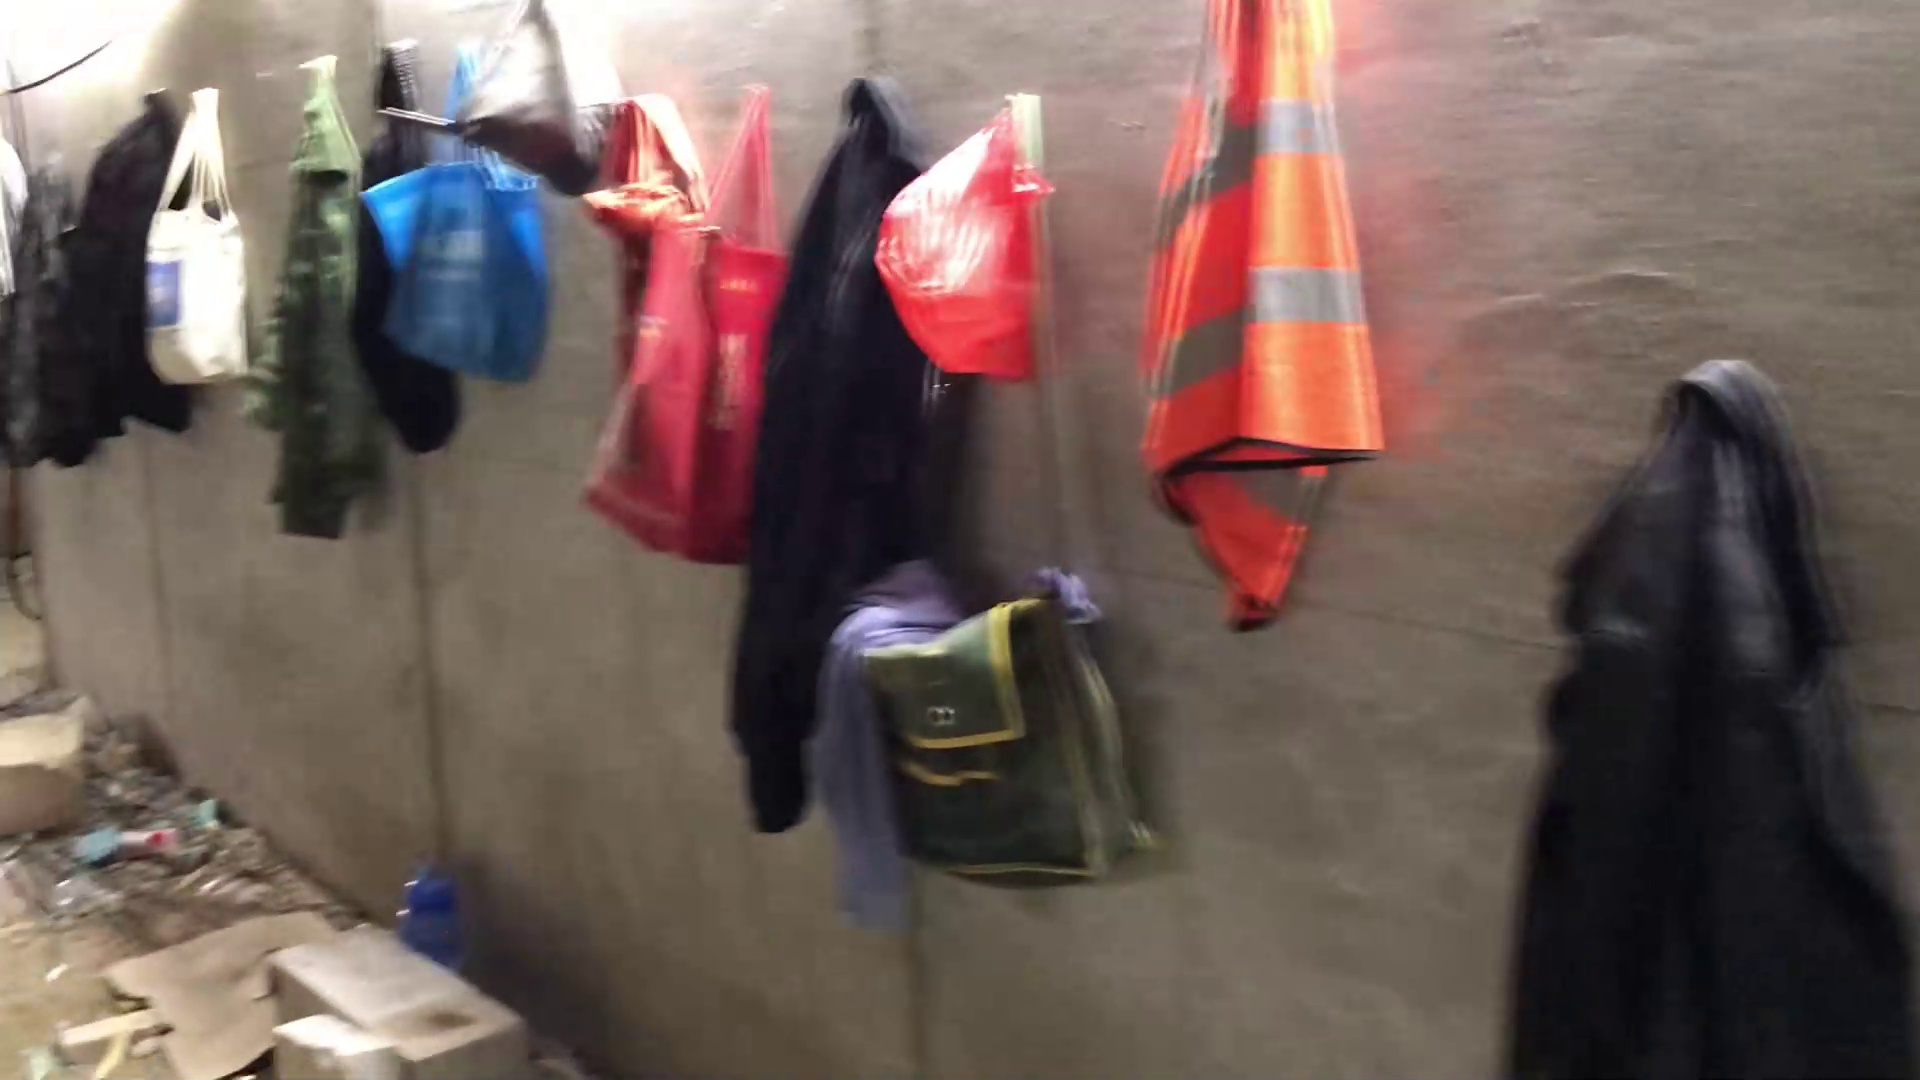vest: (1104, 1, 1418, 638)
